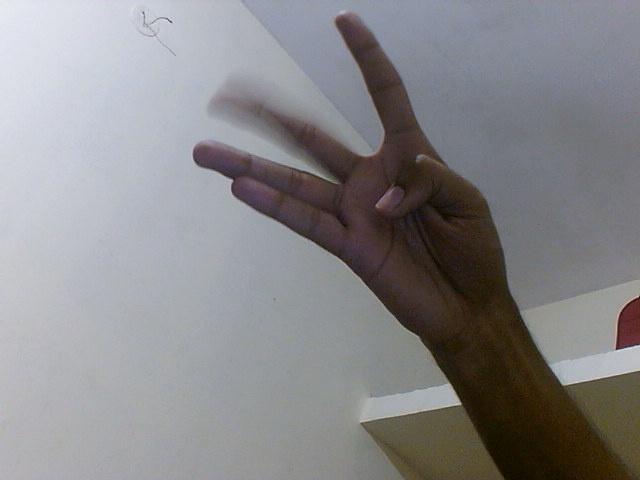hand: (193, 9, 516, 352)
